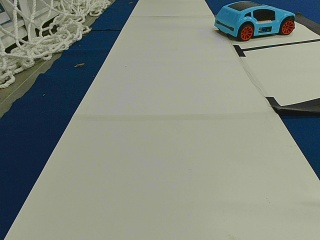car: (214, 3, 295, 40)
